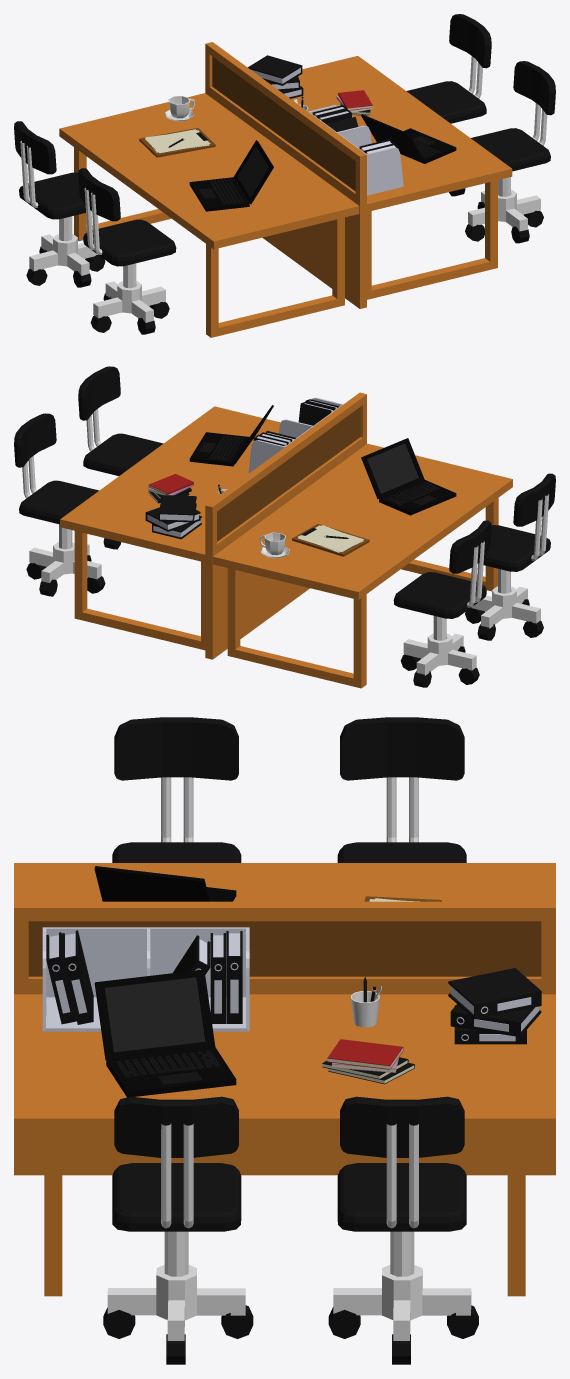
The model's file is Set Meja Kerja .fbx.
The picture shows the model from 3 angles, top to bottom: view 1: azimuth 30°, elevation 25°; view 2: azimuth 150°, elevation 25°; view 3: azimuth 270°, elevation 25°; orthographic projection. The views are drawn at different scales.
Visible parts, largest first — view 1: Plane.009, Vert.002, Plane.010, Plane.022, Plane.016, Plane.014, Plane.020, Circle.021, Circle.001; view 2: Plane.009, Vert.002, Plane.010, Plane.022, Plane.016, Plane.014, Plane.020, Circle.021, Circle.001; view 3: Vert.002, Plane.009, Plane.010, Plane.022, Plane.016, Plane.014, Circle.021.
Boxes of the visible parts, x1,y1,x2,y2 form: Plane.009: [59, 56, 512, 337]; Vert.002: [14, 14, 555, 334]; Plane.010: [205, 42, 366, 308]; Plane.022: [189, 114, 456, 211]; Plane.016: [308, 105, 403, 195]; Plane.014: [248, 55, 303, 98]; Plane.020: [139, 128, 215, 157]; Circle.021: [294, 90, 373, 115]; Circle.001: [165, 96, 195, 121]; Plane.009: [60, 406, 512, 688]; Vert.002: [14, 366, 555, 687]; Plane.010: [205, 392, 366, 659]; Plane.022: [189, 405, 456, 515]; Plane.016: [248, 397, 343, 473]; Plane.014: [145, 495, 201, 539]; Plane.020: [292, 524, 369, 556]; Circle.021: [148, 474, 227, 503]; Circle.001: [259, 532, 289, 558]; Vert.002: [103, 717, 478, 1364]; Plane.009: [14, 863, 555, 1296]; Plane.010: [14, 901, 555, 1175]; Plane.022: [94, 866, 236, 1097]; Plane.016: [42, 927, 249, 1031]; Plane.014: [448, 968, 541, 1044]; Circle.021: [322, 976, 414, 1084].
Size of the model in its own units: 2807 by 916 by 1641.
